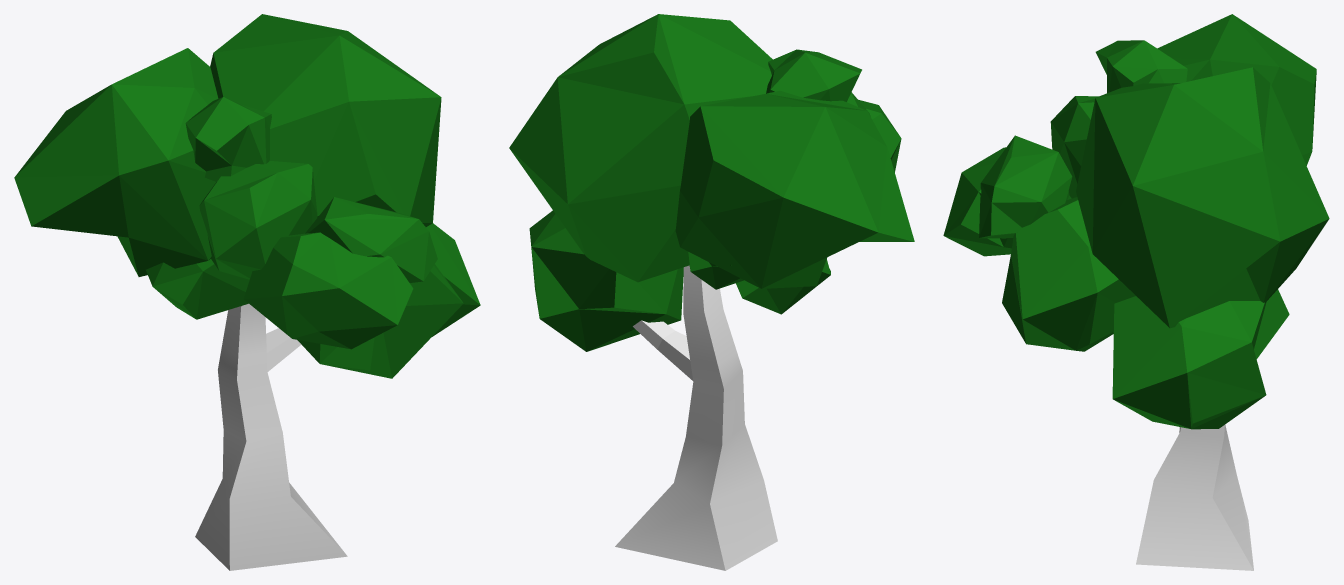
Rendered from tree3.fbx.
3 renders of one model, left to right at view 1: azimuth 30°, elevation 25°; view 2: azimuth 150°, elevation 25°; view 3: azimuth 270°, elevation 25°, orthographic. The views are drawn at different scales.
Parts seen in each view (by area): view 1: GeoSphere041, GeoSphere038, Box002, GeoSphere044, GeoSphere042, GeoSphere045, GeoSphere046, GeoSphere043, GeoSphere048, GeoSphere047; view 2: GeoSphere041, GeoSphere038, Box002, GeoSphere047, GeoSphere043, GeoSphere048, GeoSphere039, GeoSphere044; view 3: GeoSphere041, GeoSphere047, GeoSphere045, Box002, GeoSphere038, GeoSphere046, GeoSphere043, GeoSphere044, GeoSphere042.
Boxes of the visible parts, bbox=[...] form: GeoSphere041: bbox=[210, 14, 441, 226]; GeoSphere038: bbox=[14, 48, 218, 276]; Box002: bbox=[195, 303, 347, 570]; GeoSphere044: bbox=[243, 232, 413, 349]; GeoSphere042: bbox=[199, 161, 317, 279]; GeoSphere045: bbox=[297, 264, 463, 378]; GeoSphere046: bbox=[305, 197, 437, 282]; GeoSphere043: bbox=[185, 97, 271, 181]; GeoSphere048: bbox=[146, 259, 249, 319]; GeoSphere047: bbox=[426, 223, 480, 336]; GeoSphere041: bbox=[509, 14, 772, 282]; GeoSphere038: bbox=[675, 90, 914, 288]; Box002: bbox=[615, 265, 777, 570]; GeoSphere047: bbox=[529, 210, 683, 351]; GeoSphere043: bbox=[766, 49, 861, 101]; GeoSphere048: bbox=[736, 259, 830, 314]; GeoSphere039: bbox=[688, 252, 743, 289]; GeoSphere044: bbox=[858, 100, 901, 172]; GeoSphere041: bbox=[1076, 67, 1329, 328]; GeoSphere047: bbox=[1112, 289, 1289, 429]; GeoSphere045: bbox=[1002, 197, 1135, 351]; Box002: bbox=[1136, 424, 1253, 570]; GeoSphere038: bbox=[1157, 14, 1316, 165]; GeoSphere046: bbox=[979, 135, 1072, 238]; GeoSphere043: bbox=[1095, 40, 1187, 93]; GeoSphere044: bbox=[943, 147, 1069, 256]; GeoSphere042: bbox=[1050, 96, 1098, 199].
Bounding box in the file's own units: 2758 × 3283 × 2367.
